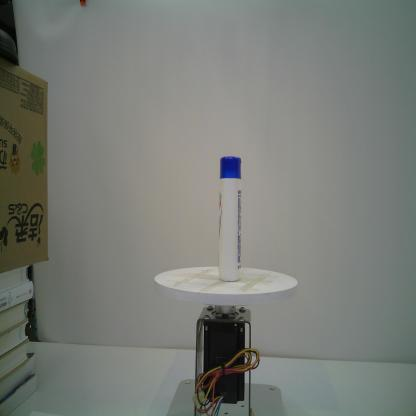Personal Hygiene: (218, 156, 242, 282)
